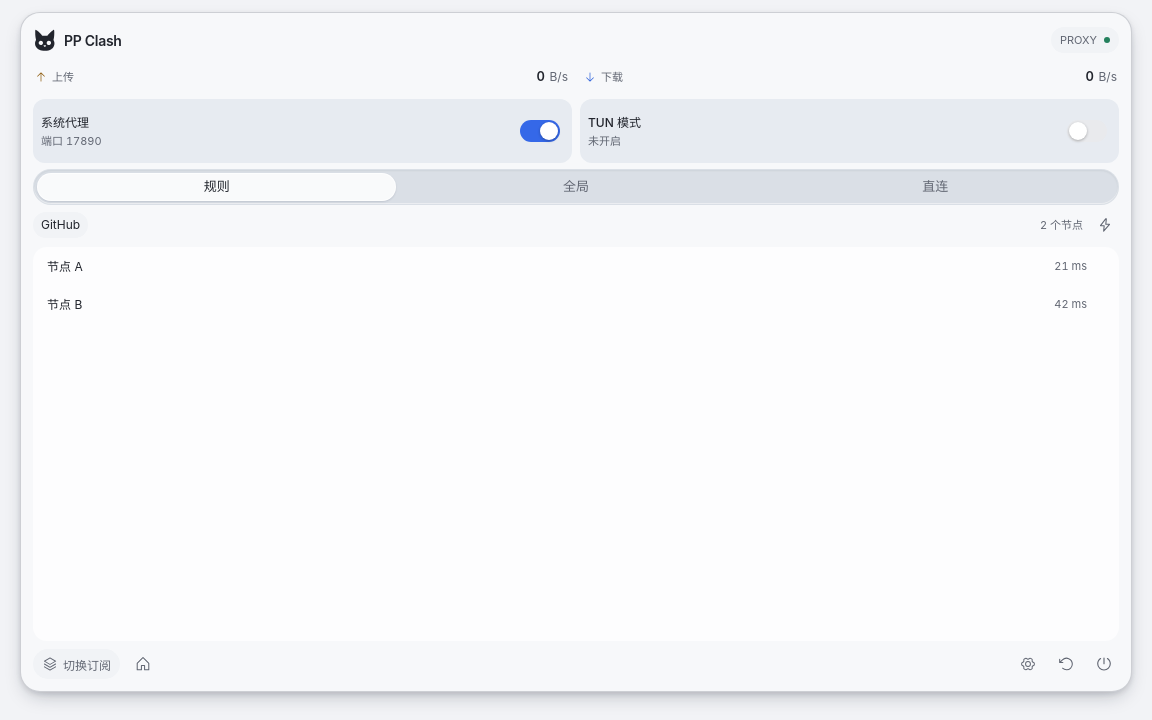
Test: 托盘 GitHub 组展示并使用 GitHub 目标，要求 HTTP 200
The width and height of the screenshot is (1152, 720).
What coordinates should you click on to do the following:
click the button with class "tp-test"
I would click on:
 (1105, 225)
Its box is 1091,211 -> 1119,239.
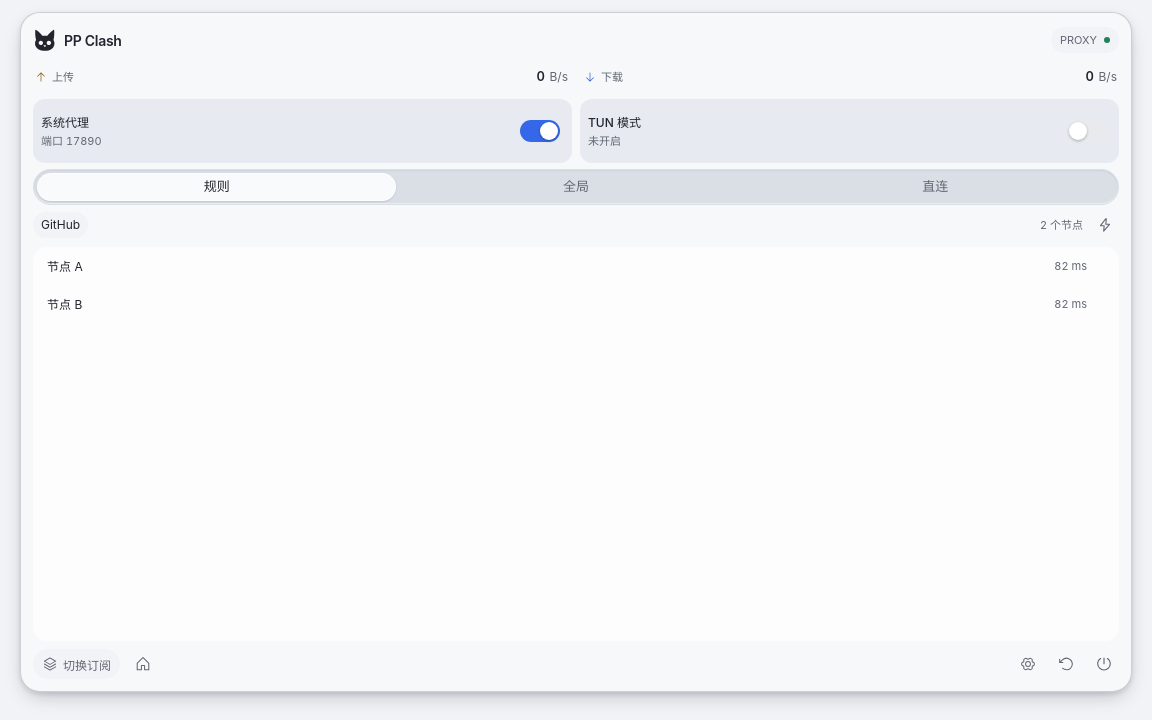
Result: the button with class "tp-node-item" shows "82 ms" at 39,287 -> 1113,321
